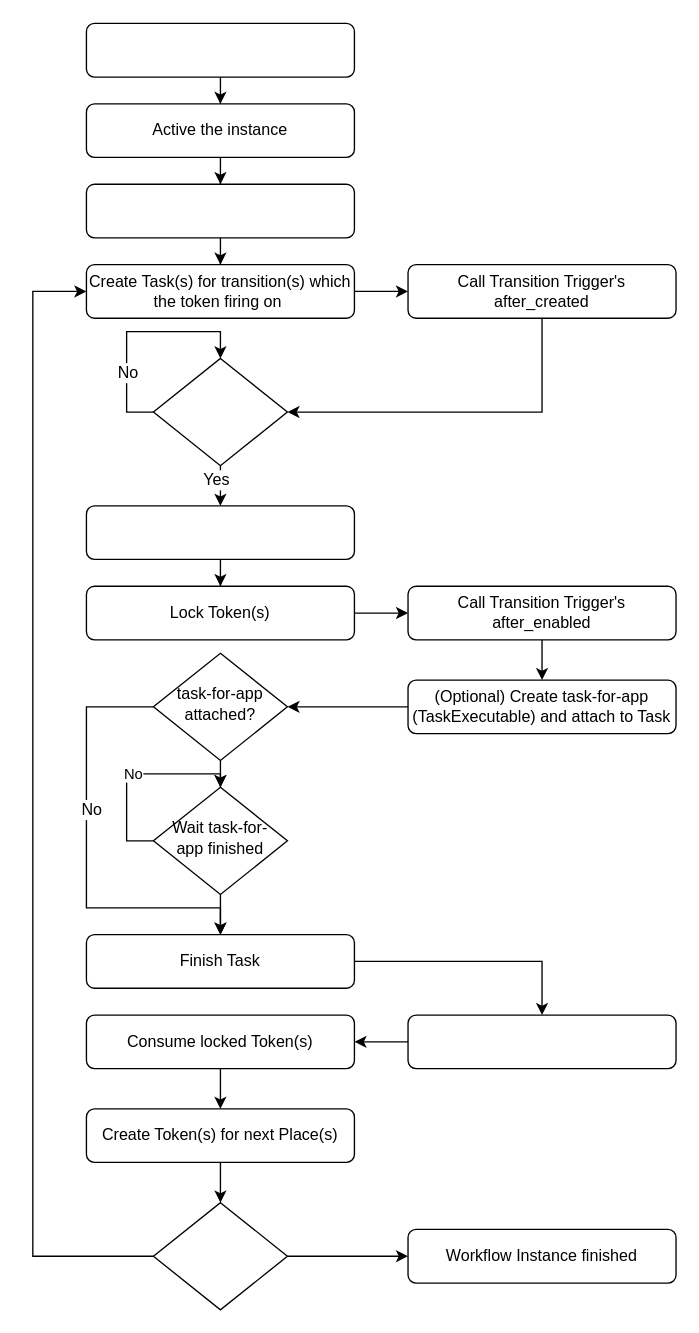
Some shapes in this 699 by 1333 pixel diagram are drawn without their labels. The box of each missing label's shape, as (x1, y1, x2, y2) in pixels:
Call Transition Trigger's after_finished: (407, 1014, 676, 1069)
Create first Token on Start Place: (85, 183, 354, 238)
Enable Task: (85, 505, 354, 559)
Instance Created: (85, 22, 354, 77)
Token firable?: (152, 357, 287, 466)
Token reach End Place?: (152, 1201, 287, 1310)
